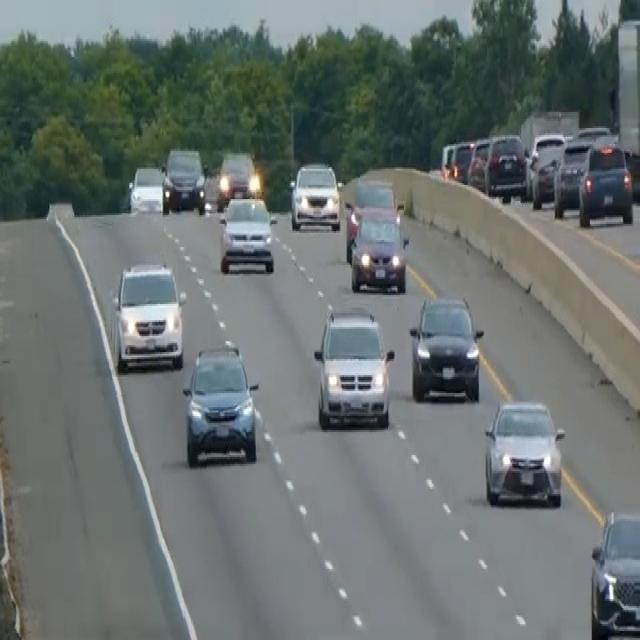car: (181, 338, 259, 468), (483, 394, 566, 508), (408, 292, 484, 402), (588, 507, 639, 638), (349, 203, 409, 293), (577, 138, 634, 228), (342, 175, 399, 262), (218, 192, 276, 274), (288, 158, 342, 231), (552, 137, 591, 217), (484, 131, 528, 201), (528, 130, 567, 206), (162, 144, 205, 212), (216, 149, 258, 208), (127, 162, 167, 213), (440, 137, 474, 183), (466, 134, 492, 190)
minivan: (311, 300, 396, 432), (109, 260, 187, 372)
